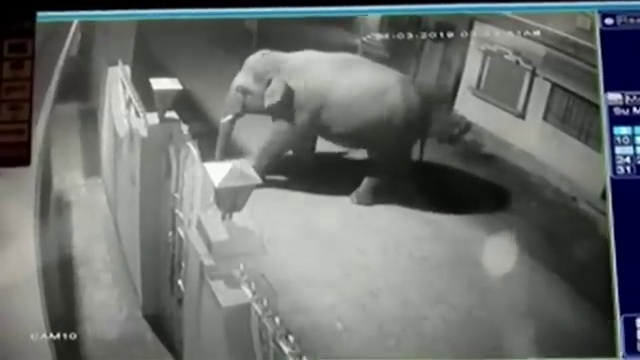Elephant: (215, 49, 429, 206)
